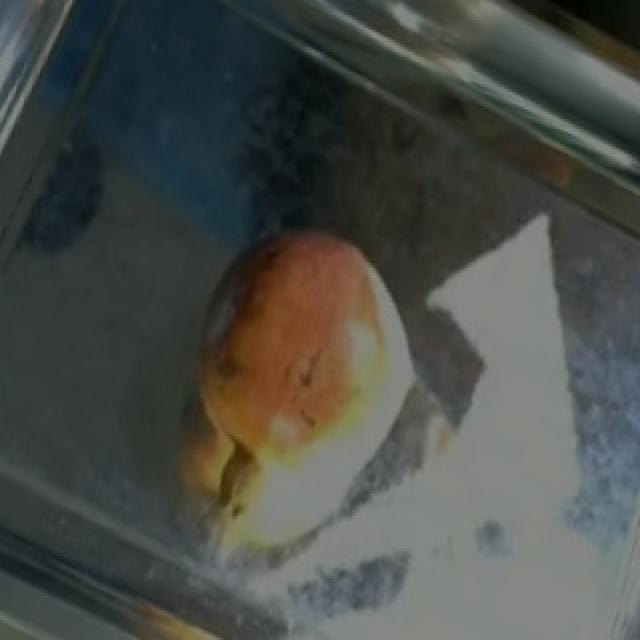fruit: (170, 196, 442, 461)
